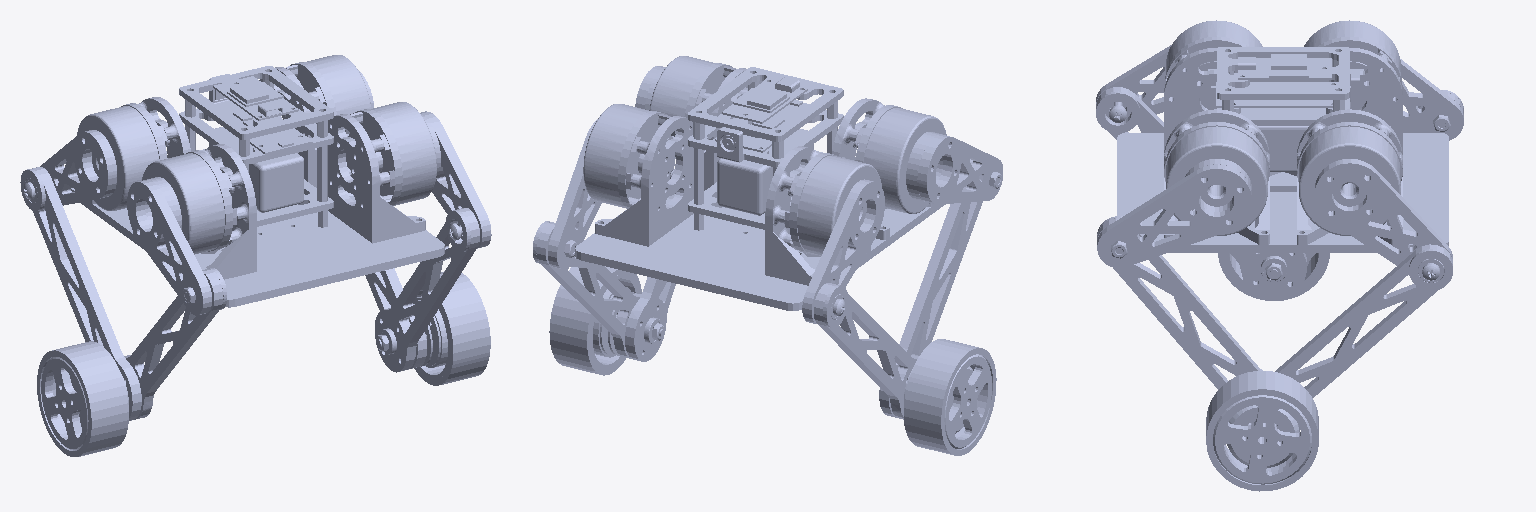
The robot description file, URDF, robot "Ass 1":
<?xml version="1.0" encoding="utf-8"?>
<!-- This URDF was automatically created by SolidWorks to URDF Exporter! Originally created by [author] ([email redacted]) 
     Commit Version: 1.6.0-4-g7f85cfe  Build Version: 1.6.7995.38578
     For more information, please see http://wiki.ros.org/sw_urdf_exporter -->
<robot
  name="Ass 1">
  <link
    name="mainbody">
    <inertial>
      <origin
        xyz="-2.3726E-06 0.024422 -4.4955E-05"
        rpy="0 0 0" />
      <mass
        value="0.31081" />
      <inertia
        ixx="0.00021208"
        ixy="1.5623E-09"
        ixz="1.4002E-09"
        iyy="0.00027627"
        iyz="5.5833E-08"
        izz="0.00013006" />
    </inertial>
    <visual>
      <origin
        xyz="0 0 0"
        rpy="0 0 0" />
      <geometry>
        <mesh
          filename="package://Ass 1/meshes/mainbody.STL" />
      </geometry>
      <material
        name="">
        <color
          rgba="0.79216 0.81961 0.93333 1" />
      </material>
    </visual>
    <collision>
      <origin
        xyz="0 0 0"
        rpy="0 0 0" />
      <geometry>
        <mesh
          filename="package://Ass 1/meshes/mainbody.STL" />
      </geometry>
    </collision>
  </link>
  <link
    name="bigleg1">
    <inertial>
      <origin
        xyz="-0.00593603004602124 -0.00371266124380118 -0.0227354388062131"
        rpy="0 0 0" />
      <mass
        value="0.0077756412577186" />
      <inertia
        ixx="3.42452671783294E-06"
        ixy="2.09047419934826E-09"
        ixz="1.28015288448736E-08"
        iyy="2.88716179352755E-06"
        iyz="-3.85678009841775E-07"
        izz="5.88343548175121E-07" />
    </inertial>
    <visual>
      <origin
        xyz="0 0 0"
        rpy="0 0 0" />
      <geometry>
        <mesh
          filename="package://Ass 1/meshes/bigleg1.STL" />
      </geometry>
      <material
        name="">
        <color
          rgba="0.792156862745098 0.819607843137255 0.933333333333333 1" />
      </material>
    </visual>
    <collision>
      <origin
        xyz="0 0 0"
        rpy="0 0 0" />
      <geometry>
        <mesh
          filename="package://Ass 1/meshes/bigleg1.STL" />
      </geometry>
    </collision>
  </link>
  <joint
    name="bigleg1"
    type="continuous">
    <origin
      xyz="-0.0633 0.03 0.034"
      rpy="1.1435 0 0" />
    <parent
      link="mainbody" />
    <child
      link="bigleg1" />
    <axis
      xyz="1 0 0" />
  </joint>
  <link
    name="smallleg1">
    <inertial>
      <origin
        xyz="-0.0211574529093844 -0.0568139492111246 0.0636827920263946"
        rpy="0 0 0" />
      <mass
        value="0.0268340222050022" />
      <inertia
        ixx="1.59304666768254E-05"
        ixy="-5.87713304454316E-09"
        ixz="7.15094089048877E-09"
        iyy="9.08764949149615E-06"
        iyz="6.29879914621856E-06"
        izz="7.66324845924581E-06" />
    </inertial>
    <visual>
      <origin
        xyz="0 0 0"
        rpy="0 0 0" />
      <geometry>
        <mesh
          filename="package://Ass 1/meshes/smallleg1.STL" />
      </geometry>
      <material
        name="">
        <color
          rgba="0.792156862745098 0.819607843137255 0.933333333333333 1" />
      </material>
    </visual>
    <collision>
      <origin
        xyz="0 0 0"
        rpy="0 0 0" />
      <geometry>
        <mesh
          filename="package://Ass 1/meshes/smallleg1.STL" />
      </geometry>
    </collision>
  </link>
  <joint
    name="smallleg1"
    type="continuous">
    <origin
      xyz="0 -0.0080582 -0.049346"
      rpy="0.46371 0 0" />
    <parent
      link="bigleg1" />
    <child
      link="smallleg1" />
    <axis
      xyz="1 0 0" />
  </joint>
  <link
    name="tire">
    <inertial>
      <origin
        xyz="-0.0127998786276471 -2.56739074444567E-16 1.5855372570428E-14"
        rpy="0 0 0" />
      <mass
        value="0.0182536050256655" />
      <inertia
        ixx="8.42538899195331E-06"
        ixy="3.26898054208189E-21"
        ixz="8.24022859238445E-21"
        iyy="4.85700908381744E-06"
        iyz="1.48230765769503E-21"
        izz="4.85700908381745E-06" />
    </inertial>
    <visual>
      <origin
        xyz="0 0 0"
        rpy="0 0 0" />
      <geometry>
        <mesh
          filename="package://Ass 1/meshes/tire.STL" />
      </geometry>
      <material
        name="">
        <color
          rgba="0.792156862745098 0.819607843137255 0.933333333333333 1" />
      </material>
    </visual>
    <collision>
      <origin
        xyz="0 0 0"
        rpy="0 0 0" />
      <geometry>
        <mesh
          filename="package://Ass 1/meshes/tire.STL" />
      </geometry>
    </collision>
  </link>
  <joint
    name="tire"
    type="continuous">
    <origin
      xyz="-0.0207 -0.069889 0.078362"
      rpy="0.9162 0 0" />
    <parent
      link="smallleg1" />
    <child
      link="tire" />
    <axis
      xyz="1 0 0" />
  </joint>
  <link
    name="bigleg2">
    <inertial>
      <origin
        xyz="-0.00673551057779109 -0.00267766598095697 0.0132184760765945"
        rpy="0 0 0" />
      <mass
        value="0.0104336042175876" />
      <inertia
        ixx="3.9627706999722E-06"
        ixy="-2.57524715318403E-09"
        ixz="1.27128787263881E-08"
        iyy="3.12290318636105E-06"
        iyz="4.71826248840826E-07"
        izz="8.89279368298612E-07" />
    </inertial>
    <visual>
      <origin
        xyz="0 0 0"
        rpy="0 0 0" />
      <geometry>
        <mesh
          filename="package://Ass 1/meshes/bigleg2.STL" />
      </geometry>
      <material
        name="">
        <color
          rgba="0.792156862745098 0.819607843137255 0.933333333333333 1" />
      </material>
    </visual>
    <collision>
      <origin
        xyz="0 0 0"
        rpy="0 0 0" />
      <geometry>
        <mesh
          filename="package://Ass 1/meshes/bigleg2.STL" />
      </geometry>
    </collision>
  </link>
  <joint
    name="bigleg2"
    type="continuous">
    <origin
      xyz="-0.0665 -0.03 0.0339999999999999"
      rpy="1.83961174262457 0 0" />
    <parent
      link="mainbody" />
    <child
      link="bigleg2" />
    <axis
      xyz="1 0 0" />
  </joint>
  <link
    name="smallleg2">
    <inertial>
      <origin
        xyz="-0.00256417339746258 -0.0349721074842758 -0.0411243573843793"
        rpy="0 0 0" />
      <mass
        value="0.0111561368021954" />
      <inertia
        ixx="1.36906272520063E-05"
        ixy="6.29989896033431E-09"
        ixz="7.40890095823154E-09"
        iyy="7.88908099750088E-06"
        iyz="-6.25728476190009E-06"
        izz="5.86794347028647E-06" />
    </inertial>
    <visual>
      <origin
        xyz="0 0 0"
        rpy="0 0 0" />
      <geometry>
        <mesh
          filename="package://Ass 1/meshes/smallleg2.STL" />
      </geometry>
      <material
        name="">
        <color
          rgba="0.792156862745098 0.819607843137255 0.933333333333333 1" />
      </material>
    </visual>
    <collision>
      <origin
        xyz="0 0 0"
        rpy="0 0 0" />
      <geometry>
        <mesh
          filename="package://Ass 1/meshes/smallleg2.STL" />
      </geometry>
    </collision>
  </link>
  <joint
    name="smallleg2"
    type="continuous">
    <origin
      xyz="0 -0.0099269 0.049005"
      rpy="-0.39991 0 0" />
    <parent
      link="bigleg2" />
    <child
      link="smallleg2" />
    <axis
      xyz="1 0 0" />
  </joint>
  <link
    name="bigleg3">
    <inertial>
      <origin
        xyz="-0.00673551057779109 -0.00267766598095703 0.0132184760765946"
        rpy="0 0 0" />
      <mass
        value="0.0104336042175876" />
      <inertia
        ixx="3.9627706999722E-06"
        ixy="-2.57524715318402E-09"
        ixz="1.27128787263882E-08"
        iyy="3.12290318636105E-06"
        iyz="4.71826248840826E-07"
        izz="8.89279368298612E-07" />
    </inertial>
    <visual>
      <origin
        xyz="0 0 0"
        rpy="0 0 0" />
      <geometry>
        <mesh
          filename="package://Ass 1/meshes/bigleg3.STL" />
      </geometry>
      <material
        name="">
        <color
          rgba="0.792156862745098 0.819607843137255 0.933333333333333 1" />
      </material>
    </visual>
    <collision>
      <origin
        xyz="0 0 0"
        rpy="0 0 0" />
      <geometry>
        <mesh
          filename="package://Ass 1/meshes/bigleg3.STL" />
      </geometry>
    </collision>
  </link>
  <joint
    name="bigleg3"
    type="continuous">
    <origin
      xyz="0.0665 -0.03 0.034"
      rpy="-2.261 0 3.1416" />
    <parent
      link="mainbody" />
    <child
      link="bigleg3" />
    <axis
      xyz="1 0 0" />
  </joint>
  <link
    name="smallleg3">
    <inertial>
      <origin
        xyz="-0.00256417339746262 -0.0349721074842801 -0.0411243573843788"
        rpy="0 0 0" />
      <mass
        value="0.0111561368021954" />
      <inertia
        ixx="1.36906272520063E-05"
        ixy="6.29989896033295E-09"
        ixz="7.40890095822839E-09"
        iyy="7.88908099750087E-06"
        iyz="-6.25728476190009E-06"
        izz="5.86794347028645E-06" />
    </inertial>
    <visual>
      <origin
        xyz="0 0 0"
        rpy="0 0 0" />
      <geometry>
        <mesh
          filename="package://Ass 1/meshes/smallleg3.STL" />
      </geometry>
      <material
        name="">
        <color
          rgba="0.792156862745098 0.819607843137255 0.933333333333333 1" />
      </material>
    </visual>
    <collision>
      <origin
        xyz="0 0 0"
        rpy="0 0 0" />
      <geometry>
        <mesh
          filename="package://Ass 1/meshes/smallleg3.STL" />
      </geometry>
    </collision>
  </link>
  <joint
    name="smallleg3"
    type="continuous">
    <origin
      xyz="0 -0.0099269 0.049005"
      rpy="2.3015 0 0" />
    <parent
      link="bigleg3" />
    <child
      link="smallleg3" />
    <axis
      xyz="1 0 0" />
  </joint>
  <link
    name="bigleg4">
    <inertial>
      <origin
        xyz="-0.00593603004602121 -0.00371266124380117 -0.0227354388062131"
        rpy="0 0 0" />
      <mass
        value="0.00777564125771858" />
      <inertia
        ixx="3.42452671783293E-06"
        ixy="2.09047419934835E-09"
        ixz="1.28015288448735E-08"
        iyy="2.88716179352755E-06"
        iyz="-3.85678009841773E-07"
        izz="5.8834354817512E-07" />
    </inertial>
    <visual>
      <origin
        xyz="0 0 0"
        rpy="0 0 0" />
      <geometry>
        <mesh
          filename="package://Ass 1/meshes/bigleg4.STL" />
      </geometry>
      <material
        name="">
        <color
          rgba="0.792156862745098 0.819607843137255 0.933333333333333 1" />
      </material>
    </visual>
    <collision>
      <origin
        xyz="0 0 0"
        rpy="0 0 0" />
      <geometry>
        <mesh
          filename="package://Ass 1/meshes/bigleg4.STL" />
      </geometry>
    </collision>
  </link>
  <joint
    name="bigleg4"
    type="continuous">
    <origin
      xyz="0.0633 0.03 0.034"
      rpy="-0.66366 0 -3.1416" />
    <parent
      link="mainbody" />
    <child
      link="bigleg4" />
    <axis
      xyz="1 0 0" />
  </joint>
  <link
    name="smallleg4">
    <inertial>
      <origin
        xyz="-0.0211574529093842 -0.0568139492111265 0.0636827920263948"
        rpy="0 0 0" />
      <mass
        value="0.0268340222050022" />
      <inertia
        ixx="1.59304666768253E-05"
        ixy="-5.87713304452877E-09"
        ixz="7.15094089047282E-09"
        iyy="9.08764949149613E-06"
        iyz="6.29879914621856E-06"
        izz="7.66324845924581E-06" />
    </inertial>
    <visual>
      <origin
        xyz="0 0 0"
        rpy="0 0 0" />
      <geometry>
        <mesh
          filename="package://Ass 1/meshes/smallleg4.STL" />
      </geometry>
      <material
        name="">
        <color
          rgba="0.792156862745098 0.819607843137255 0.933333333333333 1" />
      </material>
    </visual>
    <collision>
      <origin
        xyz="0 0 0"
        rpy="0 0 0" />
      <geometry>
        <mesh
          filename="package://Ass 1/meshes/smallleg4.STL" />
      </geometry>
    </collision>
  </link>
  <joint
    name="smallelg4"
    type="continuous">
    <origin
      xyz="0 -0.0080582 -0.049346"
      rpy="-2.3951 0 0" />
    <parent
      link="bigleg4" />
    <child
      link="smallleg4" />
    <axis
      xyz="1 0 0" />
  </joint>
  <link
    name="tire2">
    <inertial>
      <origin
        xyz="-0.0127998786276472 -1.19348975147204E-15 1.68094704822153E-14"
        rpy="0 0 0" />
      <mass
        value="0.0182536050256655" />
      <inertia
        ixx="8.42538899195332E-06"
        ixy="-1.05629166703312E-21"
        ixz="-2.42773145148815E-20"
        iyy="4.85700908381745E-06"
        iyz="7.39942138497095E-22"
        izz="4.85700908381745E-06" />
    </inertial>
    <visual>
      <origin
        xyz="0 0 0"
        rpy="0 0 0" />
      <geometry>
        <mesh
          filename="package://Ass 1/meshes/tire2.STL" />
      </geometry>
      <material
        name="">
        <color
          rgba="0.792156862745098 0.819607843137255 0.933333333333333 1" />
      </material>
    </visual>
    <collision>
      <origin
        xyz="0 0 0"
        rpy="0 0 0" />
      <geometry>
        <mesh
          filename="package://Ass 1/meshes/tire2.STL" />
      </geometry>
    </collision>
  </link>
  <joint
    name="tire2"
    type="continuous">
    <origin
      xyz="-0.0207 -0.069889 0.078362"
      rpy="-1.6536 0 0" />
    <parent
      link="smallleg4" />
    <child
      link="tire2" />
    <axis
      xyz="1 0 0" />
  </joint>
</robot>

--- What the picture shows (computed from the rendered views, not written in the file) ---
The picture shows the robot from 3 angles, left to right: view 1: azimuth 30°, elevation 25°; view 2: azimuth 150°, elevation 25°; view 3: azimuth 270°, elevation 25°; orthographic projection.
Robot: Ass 1 — 11 links, 10 joints (10 continuous); root link mainbody; default pose: all joints at 0.
Visible links, largest first — view 1: mainbody, tire, smallleg1, smallleg3, bigleg2, smallleg2, tire2, bigleg1, bigleg3, smallleg4; view 2: mainbody, tire, smallleg1, bigleg2, smallleg4, smallleg2, bigleg1, tire2, bigleg4, smallleg3, bigleg3; view 3: mainbody, tire2, smallleg4, bigleg3, bigleg4, smallleg3, smallleg2, bigleg1, bigleg2, tire, smallleg1.
Boxes of the visible links, x1,y1,x2,y2 form: mainbody: [71, 55, 444, 307]; tire: [37, 341, 128, 456]; smallleg1: [20, 167, 141, 428]; smallleg3: [375, 208, 479, 372]; bigleg2: [127, 177, 211, 315]; smallleg2: [124, 268, 226, 419]; tire2: [403, 271, 490, 385]; bigleg1: [24, 130, 116, 205]; bigleg3: [420, 111, 491, 248]; smallleg4: [346, 162, 447, 368]; mainbody: [575, 56, 946, 310]; tire: [904, 339, 996, 455]; smallleg1: [814, 283, 972, 433]; bigleg2: [906, 132, 1002, 204]; smallleg4: [533, 221, 664, 358]; smallleg2: [879, 159, 1001, 417]; bigleg1: [802, 179, 884, 323]; tire2: [549, 266, 641, 375]; bigleg4: [548, 119, 601, 268]; smallleg3: [625, 277, 675, 361]; bigleg3: [635, 66, 665, 109]; mainbody: [1117, 20, 1448, 252]; tire2: [1206, 371, 1318, 491]; smallleg4: [1227, 244, 1452, 467]; bigleg3: [1097, 159, 1251, 267]; bigleg4: [1315, 159, 1452, 280]; smallleg3: [1097, 216, 1262, 389]; smallleg2: [1096, 87, 1306, 297]; bigleg1: [1400, 59, 1463, 140]; bigleg2: [1096, 45, 1171, 114]; tire: [1218, 253, 1329, 300]; smallleg1: [1254, 90, 1463, 282].
Bounding box of the posed robot: 0.211 × 0.1662 × 0.1647 m (x, y, z).
Meshes: 11 distinct files referenced, 11 mesh visuals loaded (11 binary STL).
